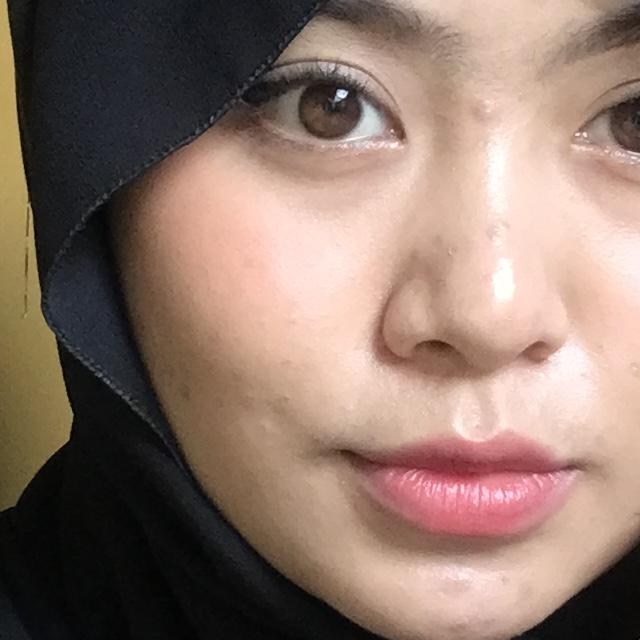telpon: (490, 56, 640, 640)
